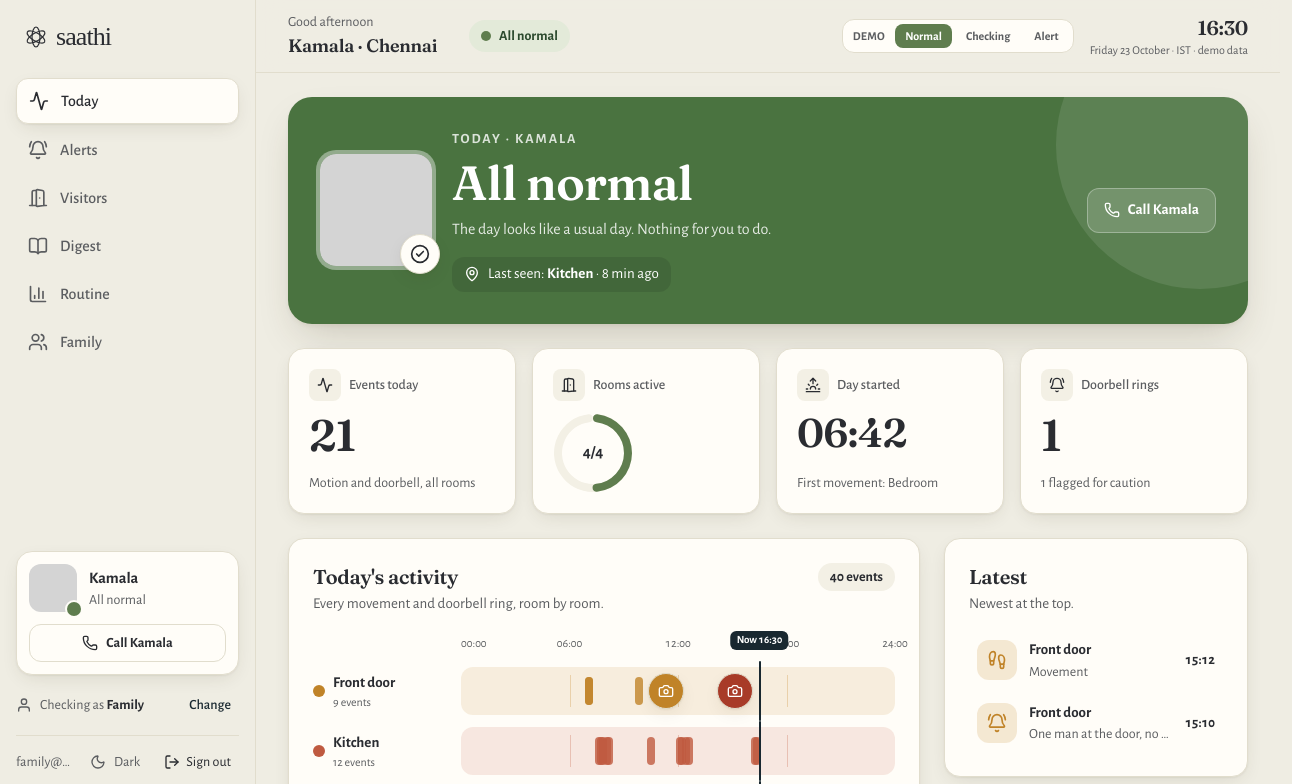
it: screens with mock data › the demo switch changes the status in place and keeps it across tabs
Expected: the heading "All normal" is shown, 452,153 -> 692,212
Click the button "Alert" at (1046, 36), box 1024,24 -> 1069,48
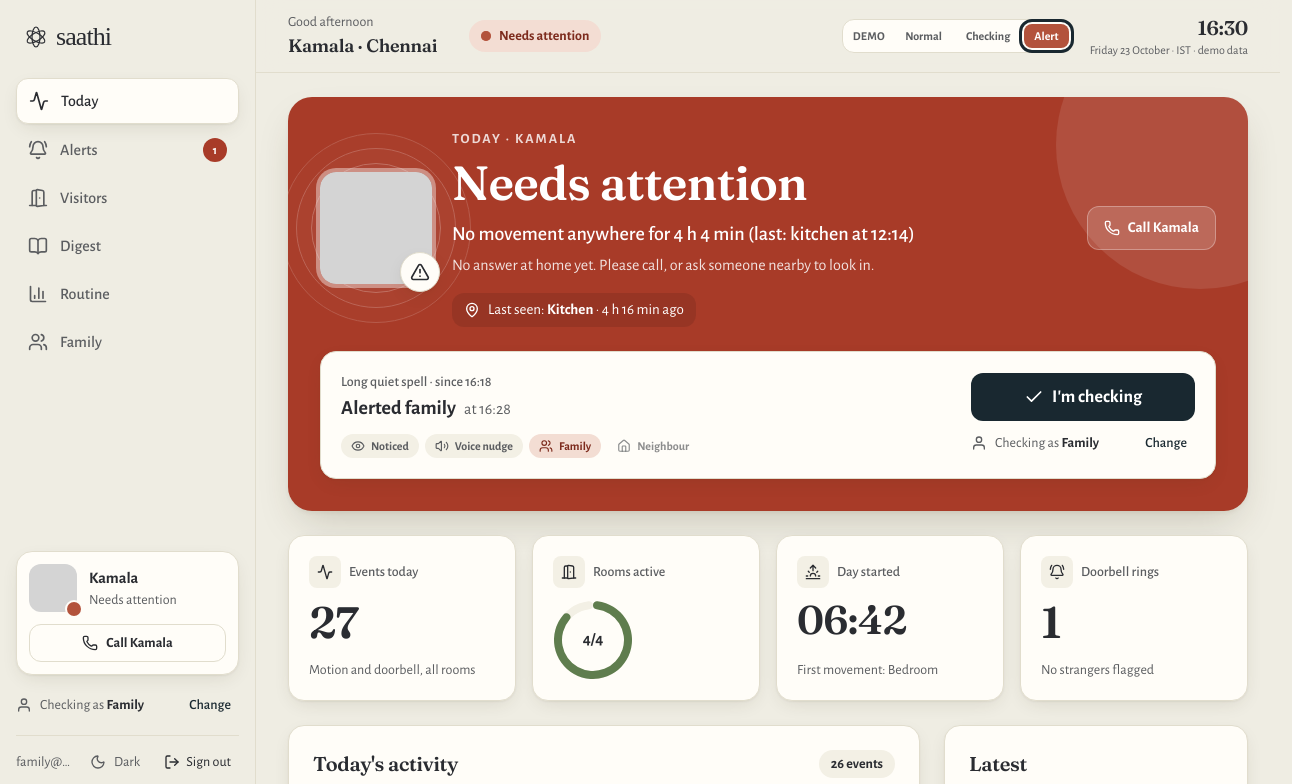
Expected: the heading "Needs attention" is shown, 452,153 -> 807,212
Click the button "Checking" at (988, 36), box 956,24 -> 1020,48
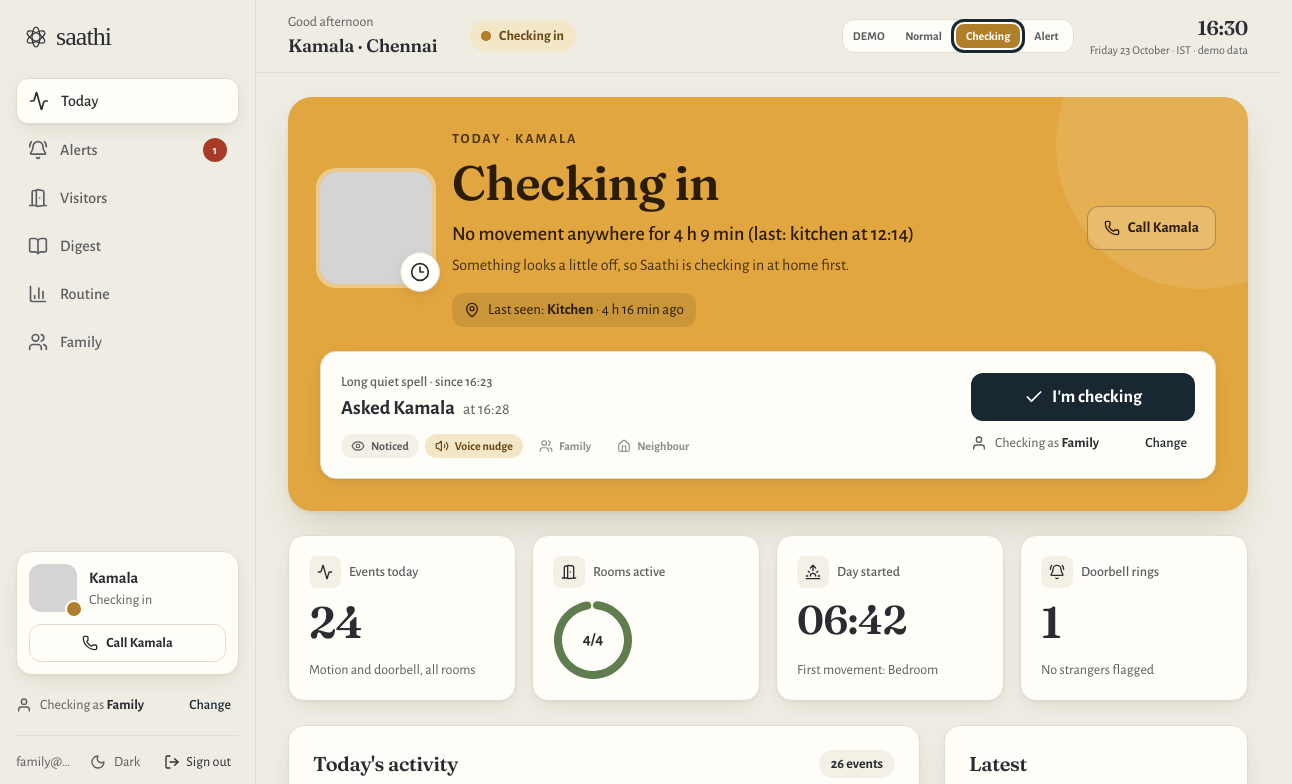
Expected: the heading "Checking in" is shown, 452,153 -> 719,212
